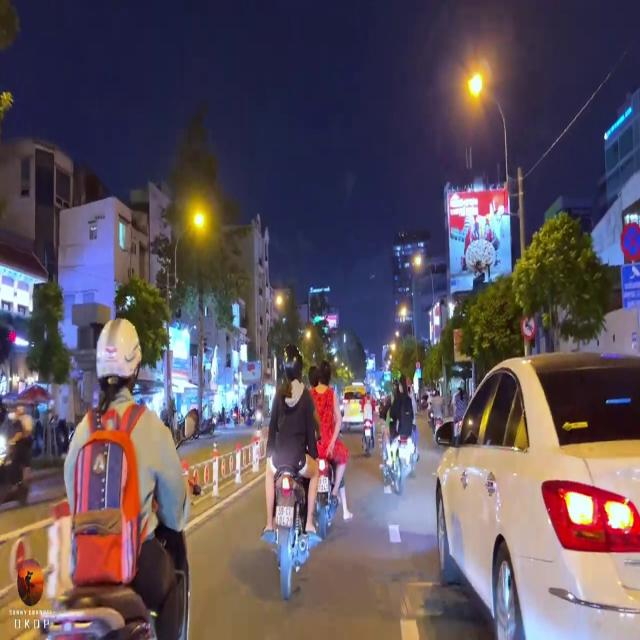bien_trang: (272, 504, 296, 532)
